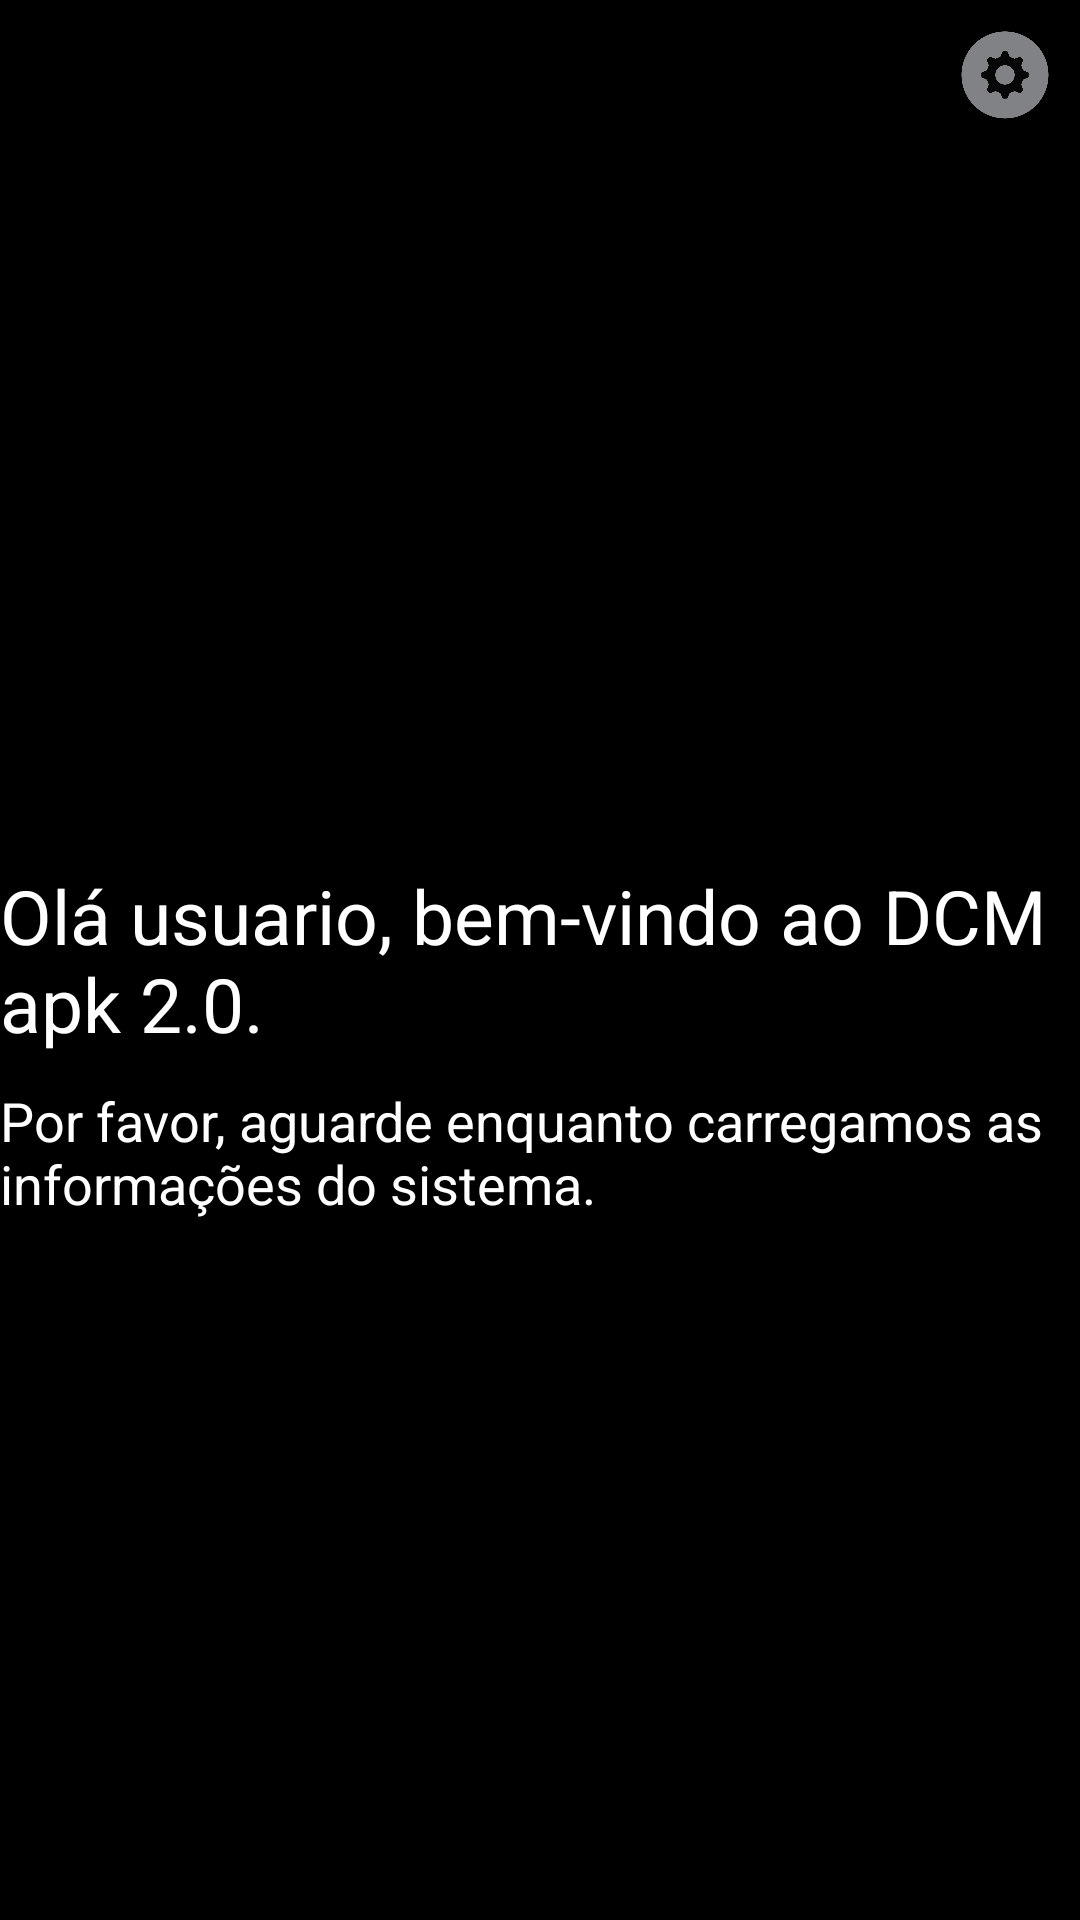

Where to tap for icons on this 1080×1920 app screen, as (x=x, y=y):
configbutton: (x=1005, y=75)
